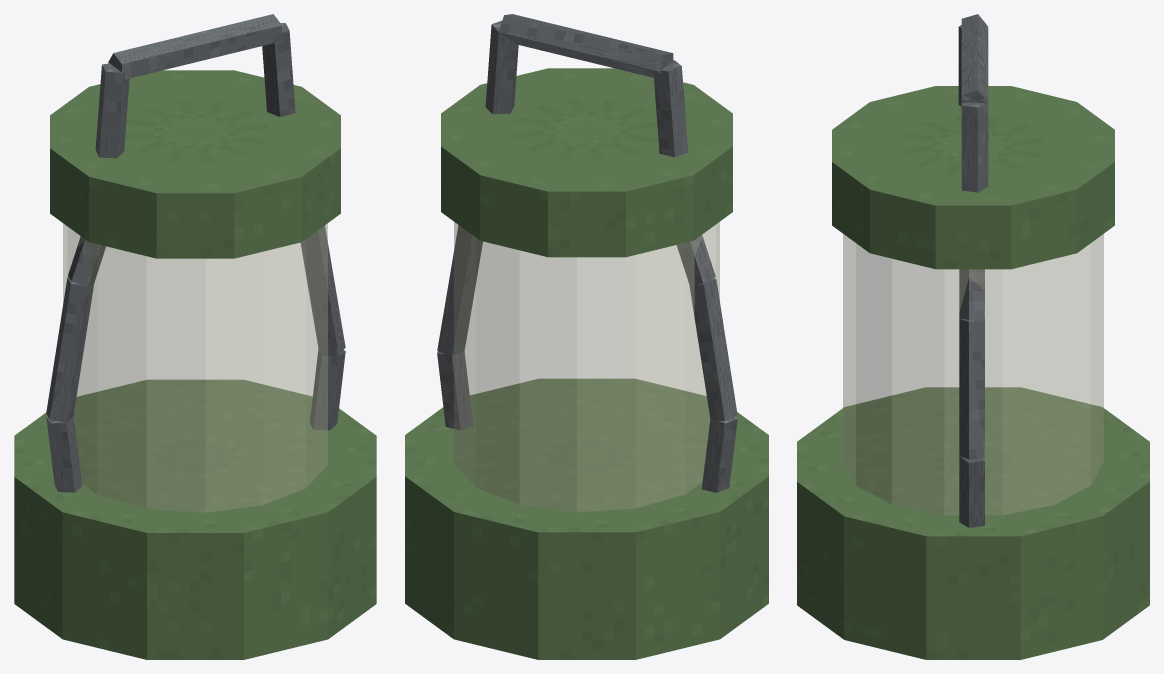
The model's file is electric_lantern.glb.
3 views of the same model, side by side, from view 1: azimuth 30°, elevation 25°; view 2: azimuth 150°, elevation 25°; view 3: azimuth 270°, elevation 25° (orthographic). The views are drawn at different scales.
Visible parts, largest first — view 1: block_lamp base, block_light enclosure, block_lamp roof, block_lamp guard 1 (×2), block_folding handle 1, block_lamp guard 0 (×2), block_folding handle 0, block_folding handle 2, block_lamp guard 2; view 2: block_lamp base, block_light enclosure, block_lamp roof, block_lamp guard 1 (×2), block_folding handle 1, block_lamp guard 0 (×2), block_folding handle 0, block_folding handle 2, block_lamp guard 2; view 3: block_lamp base, block_light enclosure, block_lamp roof, block_lamp guard 1, block_folding handle 2, block_folding handle 1, block_lamp guard 0, block_lamp guard 2.
Part boxes in pixels (<box>): block_lamp base: <box>14,379,376,659</box>; block_light enclosure: <box>63,223,327,512</box>; block_lamp roof: <box>50,70,340,258</box>; block_lamp guard 1 (×2): <box>46,225,345,422</box>; block_folding handle 1: <box>108,14,281,79</box>; block_lamp guard 0 (×2): <box>46,349,345,492</box>; block_folding handle 0: <box>95,63,129,158</box>; block_folding handle 2: <box>262,23,295,116</box>; block_lamp guard 2: <box>68,236,105,286</box>; block_lamp base: <box>405,378,768,659</box>; block_light enclosure: <box>454,222,719,512</box>; block_lamp roof: <box>441,68,732,257</box>; block_lamp guard 1 (×2): <box>437,225,737,421</box>; block_folding handle 1: <box>499,14,673,77</box>; block_lamp guard 0 (×2): <box>437,351,737,492</box>; block_folding handle 0: <box>653,60,688,157</box>; block_folding handle 2: <box>485,20,518,114</box>; block_lamp guard 2: <box>677,235,715,284</box>; block_lamp base: <box>797,387,1149,659</box>; block_light enclosure: <box>843,234,1103,515</box>; block_lamp roof: <box>832,86,1114,269</box>; block_lamp guard 1: <box>959,318,984,459</box>; block_folding handle 2: <box>961,102,988,192</box>; block_folding handle 1: <box>961,14,988,102</box>; block_lamp guard 0: <box>959,456,984,527</box>; block_lamp guard 2: <box>959,269,984,319</box>.
Bounding box in the file's own units: 0.1298 × 0.2165 × 0.1298.
2 materials, 2 textured.
